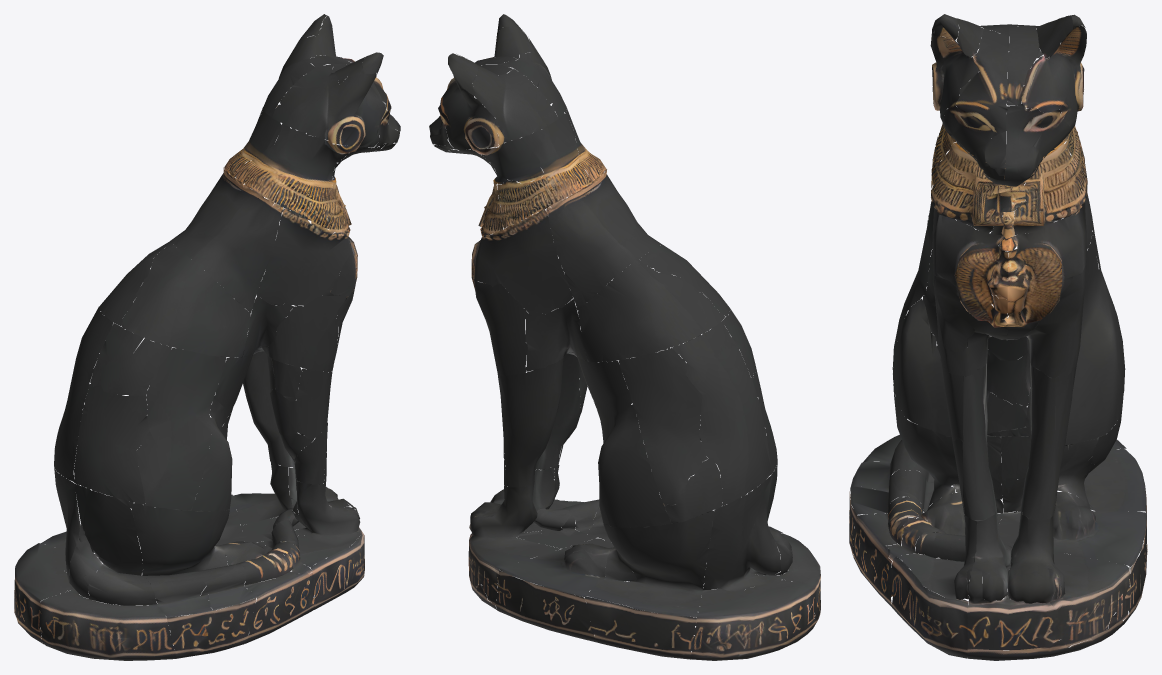
Rendered from cat.glb.
3 renders of one model, left to right at view 1: azimuth 30°, elevation 25°; view 2: azimuth 150°, elevation 25°; view 3: azimuth 270°, elevation 25°, orthographic. The views are drawn at different scales.
Visible parts, largest first — view 1: tripo_node_379d5842-eb10-4c20-8187-42f442f389f2; view 2: tripo_node_379d5842-eb10-4c20-8187-42f442f389f2; view 3: tripo_node_379d5842-eb10-4c20-8187-42f442f389f2.
Boxes of the visible parts, bbox=[...] form: tripo_node_379d5842-eb10-4c20-8187-42f442f389f2: bbox=[14, 14, 400, 660]; tripo_node_379d5842-eb10-4c20-8187-42f442f389f2: bbox=[429, 14, 820, 660]; tripo_node_379d5842-eb10-4c20-8187-42f442f389f2: bbox=[849, 14, 1147, 660].
Bounding box in the file's own units: 0.7344 × 1 × 0.4137.
1 material, 1 textured.
